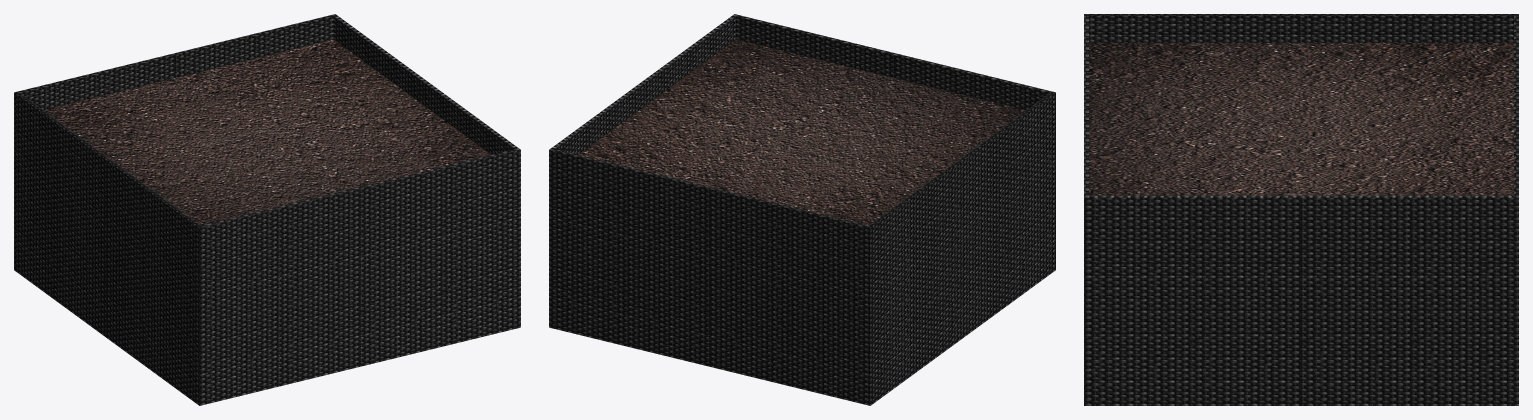
Rendered from plant pot2b.FBX.
3 views of the same model, side by side, from view 1: azimuth 30°, elevation 25°; view 2: azimuth 150°, elevation 25°; view 3: azimuth 270°, elevation 25° (orthographic). The views are drawn at different scales.
Parts seen in each view (by area): view 1: plant pot2b; view 2: plant pot2b; view 3: plant pot2b.
Boxes of the visible parts, x1,y1,x2,y2 form: plant pot2b: (14,14,520,405); plant pot2b: (549,14,1055,405); plant pot2b: (1084,14,1518,405).
Size of the model in its own units: 16 by 16 by 8.45.
Materials: 1 (1 with a texture image).
